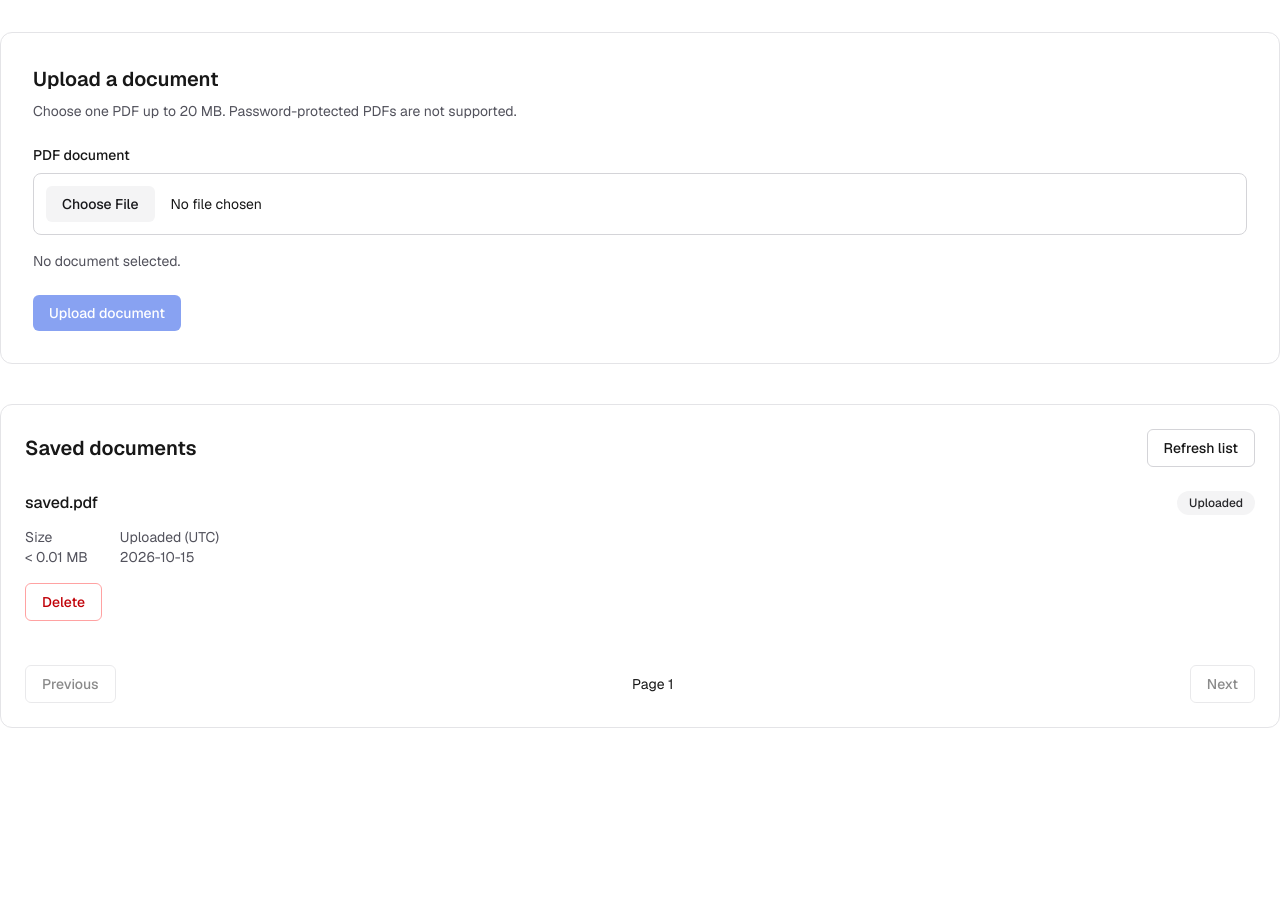
Test: requires confirmation and allows cancellation without sending DELETE
Click the button with aria-label "Delete saved.pdf".
click(64, 602)  # box [25,583,102,621]
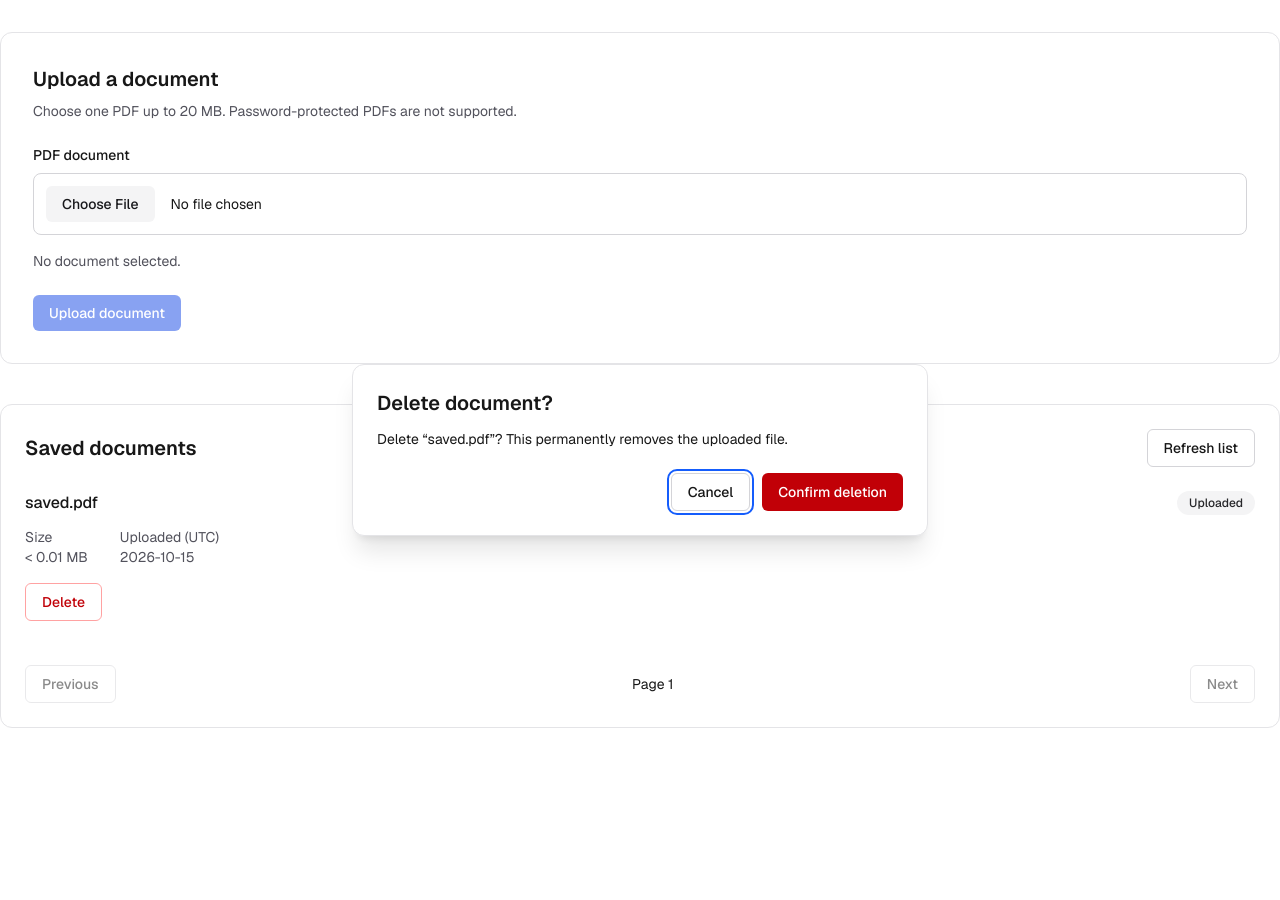
Expected: the dialog "Delete document?" is shown, [352,364,928,536]
Expected: the text "This permanently removes" is shown, [490,430,788,448]
Click the button "Cancel".
click(710, 492)  # box [671,473,750,511]
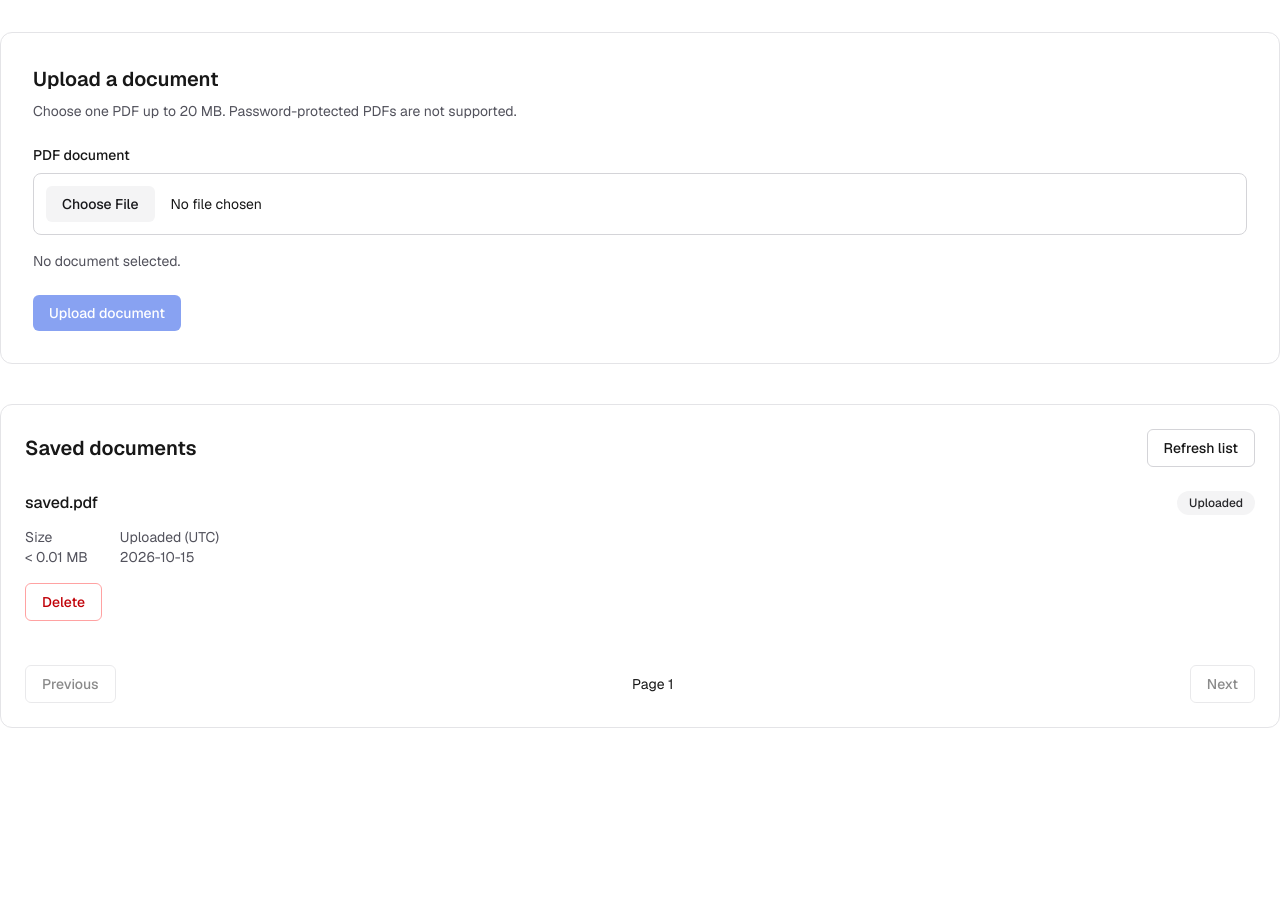
Expected: the dialog is gone
